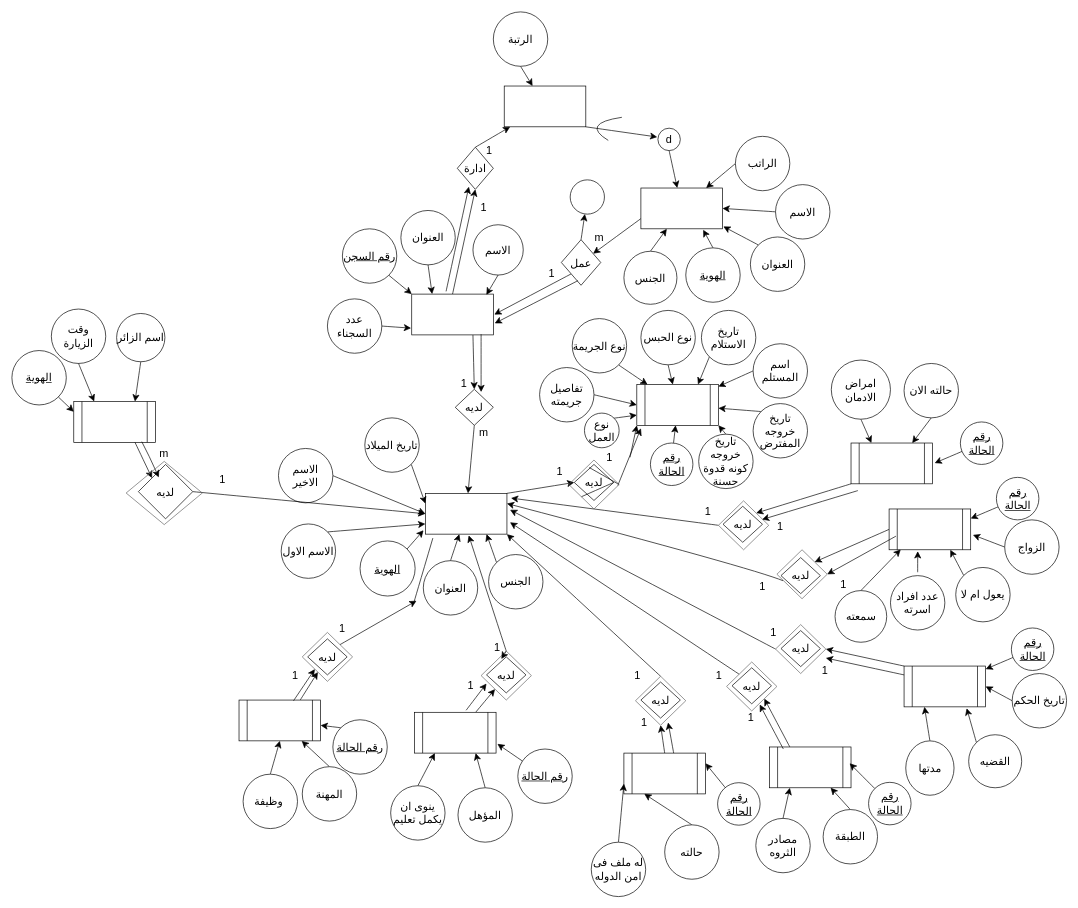
Image size: 1078x908. Some labels were removed from this diagram. The shapes that lost their labels are listed below. From the top down, each one's centre as x and y in pixels, then its label:
the point at 545,106: ظابط
the point at 587,196: ساعات العمل
the point at 681,208: الموظف
the point at 452,314: السجن
the point at 114,421: الزيارات
the point at 677,404: الحالة داخل السجن
the point at 891,463: الحالة الصحية
the point at 466,513: السجين
the point at 929,529: الحالة الاجتماعية
the point at 944,686: الحالة الجنائية
the point at 279,720: الحالة المهنيه
the point at 455,732: الحالة العلمية
the point at 664,773: الحالة السياسية
the point at 810,767: الحالة المادية
